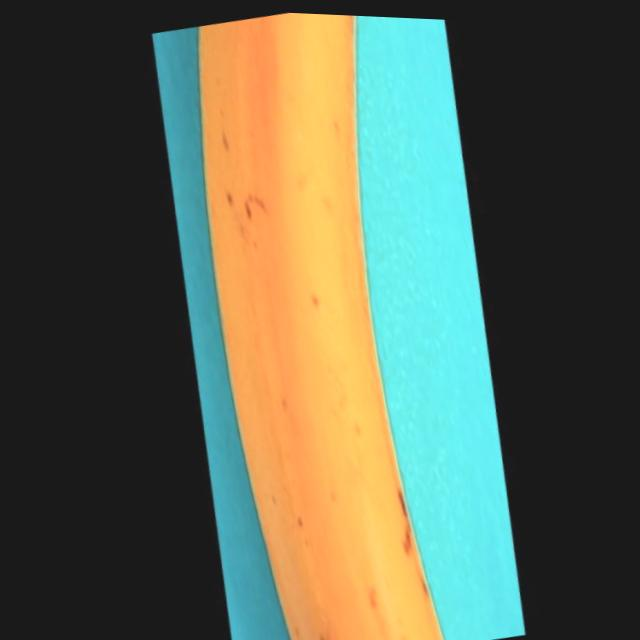Banana: (125, 4, 505, 640)
